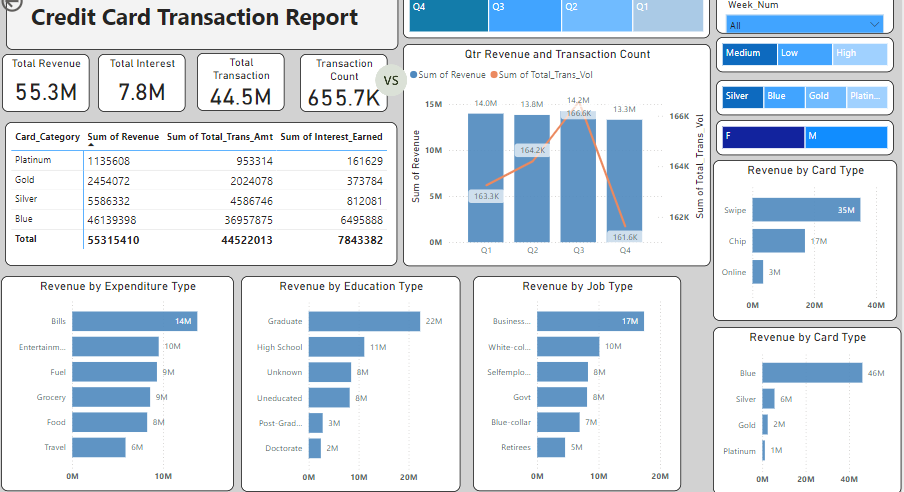

This screenshot's page, from the dashboard's own definition file:
{"tool":"powerbi","page":{"name":"CC transacation","canvas":[1280,720],"ordinal":0},"visuals":[{"type":"textbox","box":[10.8,10,556.1,79.4],"z":0},{"type":"lineStackedColumnComboChart","title":"Qtr Revenue and Transaction Count","fields":{"Category":["credit_card (1).Qtr"],"Y":["Sum(credit_card (1).Revenue)"],"Y2":["Sum(credit_card (1).Total_Trans_Vol)"]},"box":[573.6,80.3,436.4,315.3],"z":1000},{"type":"barChart","title":"Revenue by Expenditure Type","fields":{"Y":["Sum(credit_card (1).Revenue)"],"Category":["credit_card (1).Exp Type"]},"box":[4.4,410.1,329.9,305],"z":2000},{"type":"barChart","title":"Revenue by Education Type","fields":{"Y":["Sum(credit_card (1).Revenue)"],"Category":["ccdb cust_detail.Education_Level"]},"box":[344.4,410.1,310.9,306.5],"z":3000},{"type":"barChart","title":"Revenue by Job  Type","fields":{"Y":["Sum(credit_card (1).Revenue)"],"Category":["ccdb cust_detail.Customer_Job"]},"box":[672.8,410.1,294.8,305],"z":4000},{"type":"barChart","title":"Revenue by Card  Type","fields":{"Y":["Sum(credit_card (1).Revenue)"],"Category":["credit_card (1).Use Chip"]},"box":[1012.9,245.2,261.3,227.7],"z":6000},{"type":"pivotTable","fields":{"Rows":["credit_card (1).Card_Category"],"Values":["Sum(credit_card (1).Revenue)","Sum(credit_card (1).Total_Trans_Amt)","Sum(credit_card (1).Interest_Earned)"]},"box":[10.2,191.2,556.1,204.3],"z":7000},{"type":"actionButton","box":[0,0,100,40],"z":8000},{"type":"card","title":"Total Revenue","fields":{"Values":["Sum(credit_card (1).Revenue)"]},"box":[6,94.7,124.1,81.7],"z":9000},{"type":"barChart","title":"Revenue by Card  Type","fields":{"Y":["Sum(credit_card (1).Revenue)"],"Category":["credit_card (1).Card_Category"]},"box":[1012.9,481.6,267.1,237.9],"z":12000},{"type":"card","title":"Total Interest","fields":{"Values":["Sum(credit_card (1).Interest_Earned)"]},"box":[141.8,94.7,124.1,81.7],"z":13000},{"type":"card","title":"Total Transaction","fields":{"Values":["Sum(credit_card (1).Total_Trans_Amt)"]},"box":[281.9,93.2,124,82],"z":14000},{"type":"card","title":"Transaction Count","fields":{"Values":["Sum(credit_card (1).Total_Trans_Vol)"]},"box":[427.8,94.7,124.1,81.7],"z":15000},{"type":"slicer","fields":{"Values":["credit_card (1).Week_Num"]},"box":[1017.3,7.3,252,59],"z":16000},{"type":"treemap","fields":{"Group":["credit_card (1).Qtr"],"Values":["Avg(ccdb cust_detail.Client_Num)"]},"box":[573.6,5.8,434.9,67.1],"z":17000},{"type":"treemap","fields":{"Group":["ccdb cust_detail.Gender"],"Values":["Avg(ccdb cust_detail.Client_Num)"]},"box":[1017.3,188.3,252.5,49.6],"z":18000},{"type":"treemap","fields":{"Group":["credit_card (1).Card_Category"],"Values":["Avg(ccdb cust_detail.Client_Num)"]},"box":[1017.3,131.4,252.5,49.6],"z":19000},{"type":"treemap","fields":{"Group":["ccdb cust_detail.Income_Group"],"Values":["Avg(ccdb cust_detail.Client_Num)"]},"box":[1017.3,71.5,252.5,49.6],"z":20000}]}

Visuals, with their boxes in screenshot pixels (x1, y1, x2, y2):
textbox: left=8, top=0, right=396, bottom=51
"Qtr Revenue and Transaction Count" lineStackedColumnComboChart: left=401, top=44, right=706, bottom=265
"Revenue by Expenditure Type" barChart: left=3, top=275, right=234, bottom=488
"Revenue by Education Type" barChart: left=241, top=275, right=458, bottom=489
"Revenue by Job  Type" barChart: left=470, top=275, right=676, bottom=488
"Revenue by Card  Type" barChart: left=708, top=160, right=890, bottom=319
pivotTable - credit_card (1).Card_Category x Sum(credit_card (1).Revenue): left=7, top=122, right=396, bottom=265
actionButton: left=0, top=0, right=70, bottom=16
"Total Revenue" card: left=4, top=54, right=91, bottom=111
"Revenue by Card  Type" barChart: left=708, top=325, right=894, bottom=491
"Total Interest" card: left=99, top=54, right=186, bottom=111
"Total Transaction" card: left=197, top=53, right=284, bottom=111
"Transaction Count" card: left=299, top=54, right=386, bottom=111
slicer - credit_card (1).Week_Num: left=711, top=0, right=887, bottom=35
treemap - credit_card (1).Qtr x Avg(ccdb cust_detail.Client_Num): left=401, top=0, right=705, bottom=39
treemap - ccdb cust_detail.Gender x Avg(ccdb cust_detail.Client_Num): left=711, top=120, right=887, bottom=154
treemap - credit_card (1).Card_Category x Avg(ccdb cust_detail.Client_Num): left=711, top=80, right=887, bottom=115
treemap - ccdb cust_detail.Income_Group x Avg(ccdb cust_detail.Client_Num): left=711, top=38, right=887, bottom=73
